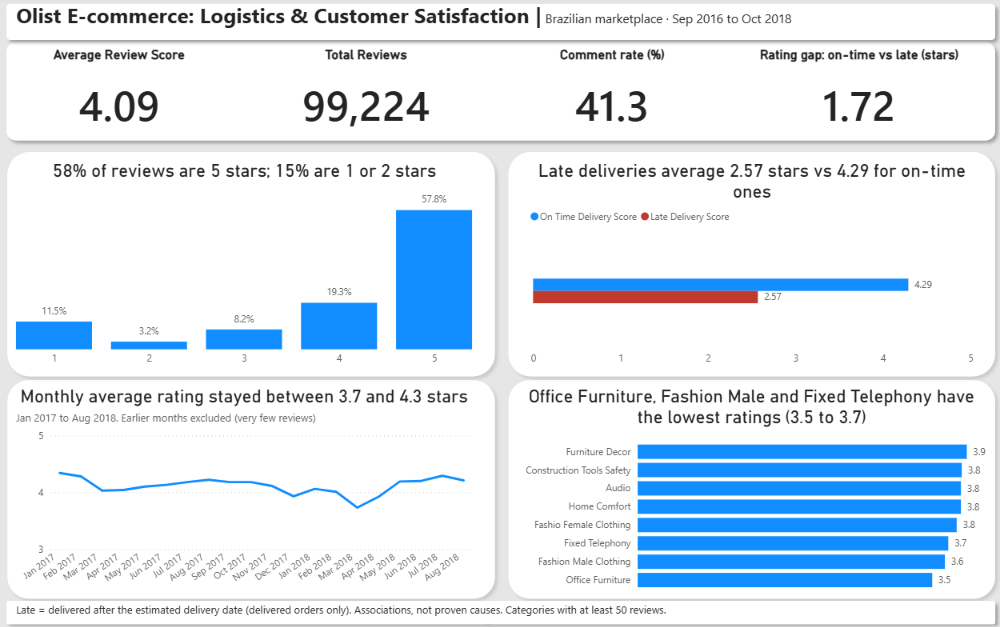

Layout of this report page (visuals, bound fields, positions):
{"tool":"powerbi","page":{"name":"Logistics & Customer Satisfaction","canvas":[1280,810],"ordinal":1},"visuals":[{"type":"group","id":"g1","title":"Background","box":[0,0,1280.5,810],"z":0},{"type":"cardVisual","title":"Average Review Score","fields":{"Data":["Avg(Review Data.global_avg_review_score)"]},"box":[0,64,306,125],"z":1000},{"type":"cardVisual","title":"Comment rate (%)","fields":{"Data":["Avg(Review Data.global_comment_rate)"]},"box":[629.3,64,306,125],"z":2000},{"type":"cardVisual","title":"Total Reviews","fields":{"Data":["Sales & Revenue Data.Reviews"]},"box":[314.7,64,306,125],"z":3000},{"type":"cardVisual","title":"Rating gap: on-time vs late (stars)","fields":{"Data":["Sales & Revenue Data.Delivery Rating Gap"]},"box":[944,64,306,125],"z":4000},{"type":"columnChart","title":"58% of reviews are 5 stars; 15% are 1 or 2 stars","fields":{"Category":["Order Reviews.review_score"],"Y":["Sales & Revenue Data.Review Share %"]},"box":[16,208,592,272],"z":5000},{"type":"shape","box":[0,48,1280,144],"z":6000,"group":"g1"},{"type":"clusteredBarChart","title":"Late deliveries average 2.57 stars vs 4.29 for on-time ones","fields":{"Y":["Avg(Review Data.avg_score_on_time)","Avg(Review Data.avg_score_late)"]},"box":[672,208,576,272],"z":6000},{"type":"shape","box":[641.1,480.3,639.4,297.4],"z":6250,"group":"g1"},{"type":"shape","box":[0.7,480.3,640.4,297.4],"z":6375,"group":"g1"},{"type":"shape","box":[0.7,189.1,640.4,304.7],"z":6500,"group":"g1"},{"type":"shape","box":[641.1,189.1,639.4,304.7],"z":6750,"group":"g1"},{"type":"lineChart","title":"Monthly average rating stayed between 3.7 and 4.3 stars","fields":{"Category":["Review Data.month"],"Y":["Avg(Review Data.true_monthly_avg)"]},"box":[16,496,592,272],"z":7000},{"type":"shape","box":[0,0,1280,64],"z":7250,"group":"g1"},{"type":"shape","box":[0,762,1280,48],"z":7500,"group":"g1"},{"type":"barChart","title":"Office Furniture, Fashion Male and Fixed Telephony have the lowest ratings (3.5 to 3.7)","fields":{"Category":["Review Data.review_category"],"Y":["Avg(Review Data.true_category_avg)"]},"box":[656,496,608,272],"z":8000},{"type":"textbox","box":[16,0,1264,48],"z":9000},{"type":"textbox","box":[16,768,1248,32],"z":9001}]}

Visuals, with their boxes in screenshot pixels (x1, y1, x2, y2), scaled from the page's 1280x810 canvas onto the 1000x627 screenshot:
"Background" group: pyautogui.locateOnScreen(0, 0, 999, 626)
"Average Review Score" cardVisual: pyautogui.locateOnScreen(0, 50, 239, 146)
"Comment rate (%)" cardVisual: pyautogui.locateOnScreen(492, 50, 731, 146)
"Total Reviews" cardVisual: pyautogui.locateOnScreen(246, 50, 485, 146)
"Rating gap: on-time vs late (stars)" cardVisual: pyautogui.locateOnScreen(738, 50, 977, 146)
"58% of reviews are 5 stars; 15% are 1 or 2 stars" columnChart: pyautogui.locateOnScreen(12, 161, 475, 372)
shape: pyautogui.locateOnScreen(0, 37, 999, 149)
"Late deliveries average 2.57 stars vs 4.29 for on-time ones" clusteredBarChart: pyautogui.locateOnScreen(525, 161, 975, 372)
shape: pyautogui.locateOnScreen(501, 372, 999, 602)
shape: pyautogui.locateOnScreen(1, 372, 501, 602)
shape: pyautogui.locateOnScreen(1, 146, 501, 382)
shape: pyautogui.locateOnScreen(501, 146, 999, 382)
"Monthly average rating stayed between 3.7 and 4.3 stars" lineChart: pyautogui.locateOnScreen(12, 384, 475, 594)
shape: pyautogui.locateOnScreen(0, 0, 999, 50)
shape: pyautogui.locateOnScreen(0, 590, 999, 626)
"Office Furniture, Fashion Male and Fixed Telephony have the lowest ratings (3.5 to 3.7)" barChart: pyautogui.locateOnScreen(512, 384, 988, 594)
textbox: pyautogui.locateOnScreen(12, 0, 999, 37)
textbox: pyautogui.locateOnScreen(12, 594, 988, 619)
